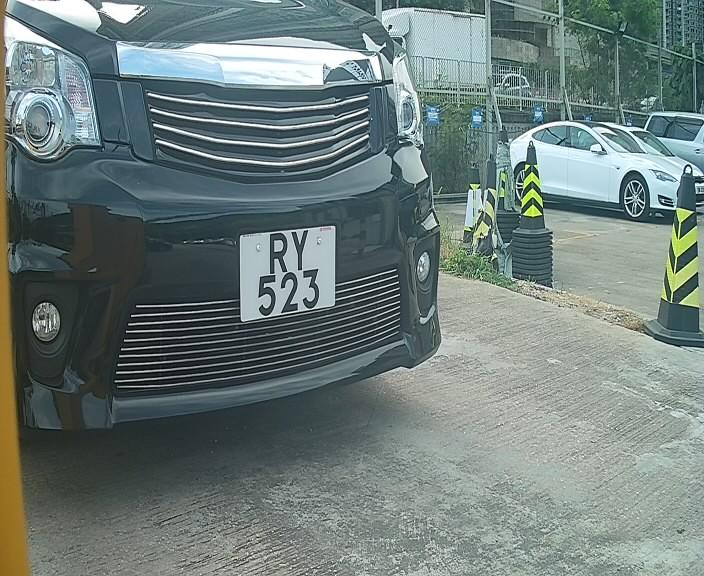License Plate: (230, 217, 349, 330)
